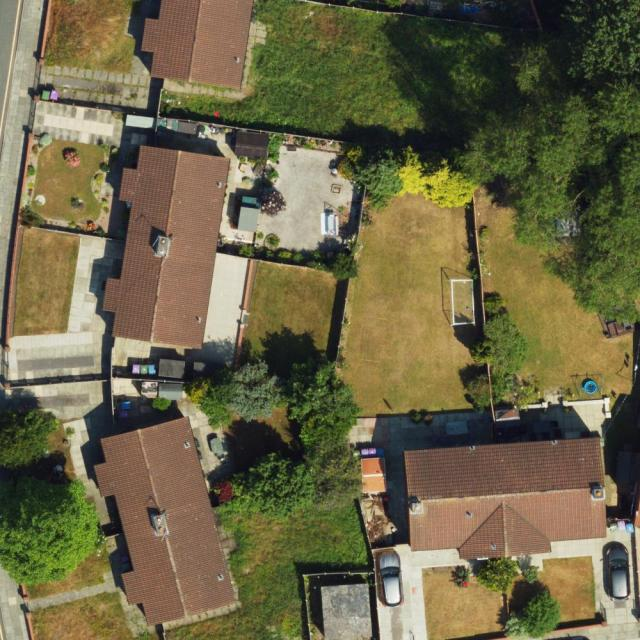roof: (93, 413, 237, 629), (105, 146, 232, 351), (405, 437, 605, 560), (140, 0, 253, 93)
